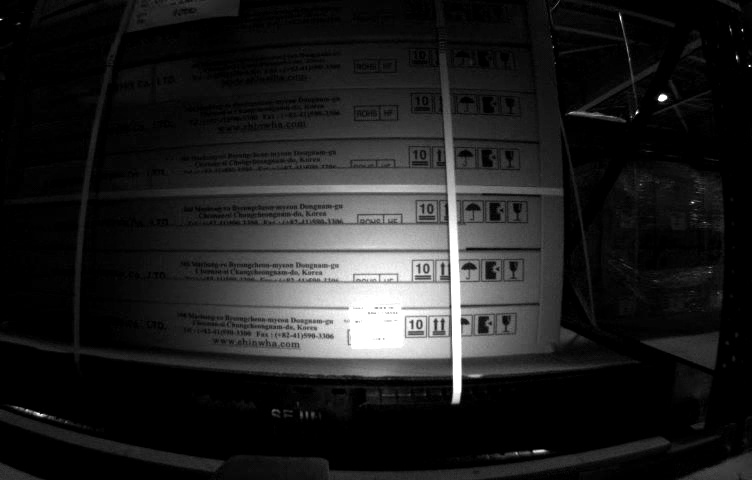True Barcode: (350, 302, 402, 349)
